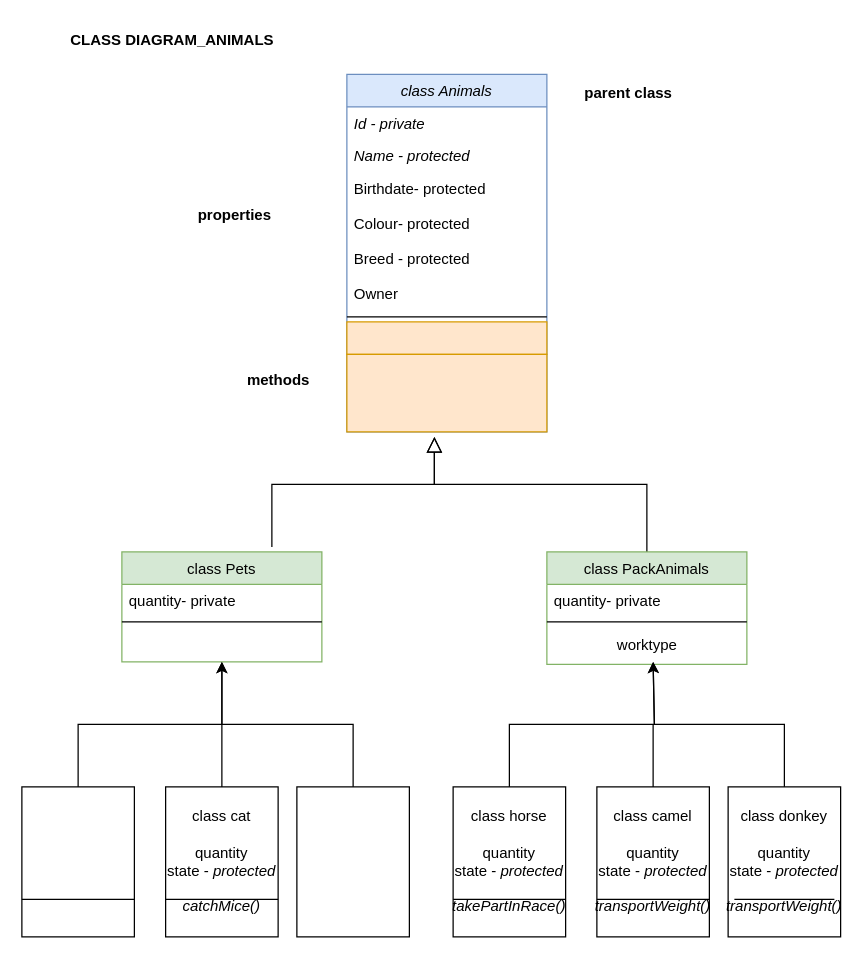
Some shapes in this 864 by 959 pixel diagram are drawn without their labels. The shapes that lost their labels are listed below. From the top down, each one's centre as x and y in pixels, then its label:
At (446,337): "sleep - public".
At (446,392): "eat - public help_human- public".
At (77,861): "class dog quantity state - protected guardHouse()".
At (352,861): "class hamster quantity state - protected".
